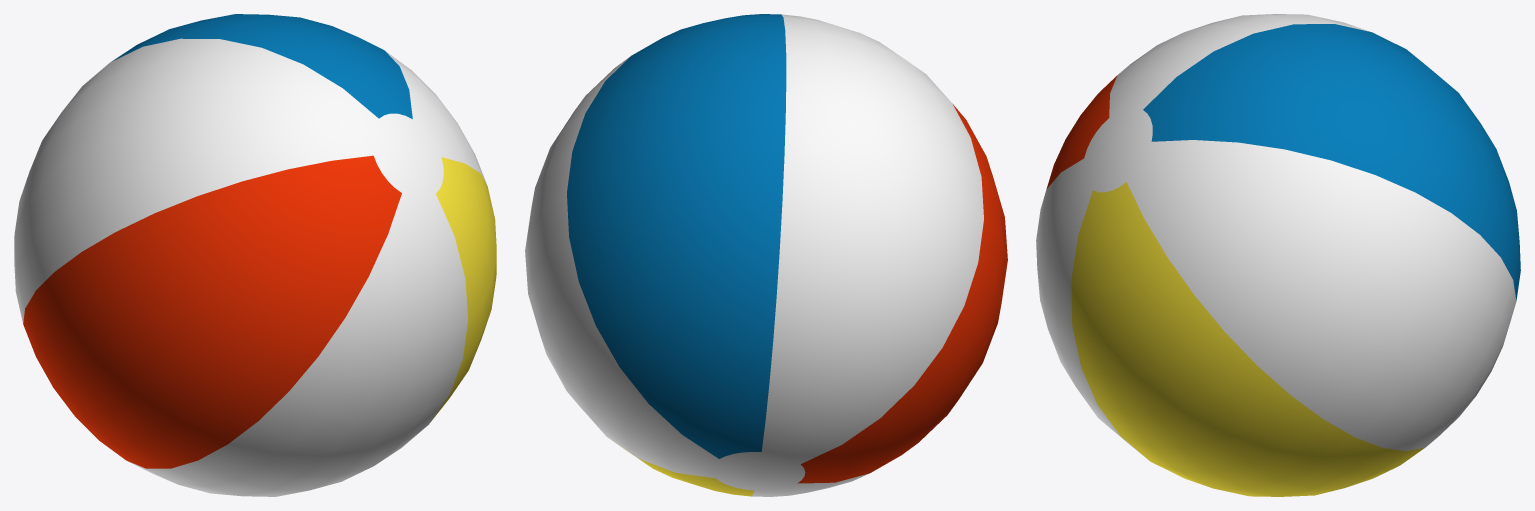
Rendered from beach ball.fbx.
3 views of the same model, side by side, from view 1: azimuth 30°, elevation 25°; view 2: azimuth 150°, elevation 25°; view 3: azimuth 270°, elevation 25° (orthographic).
Visible parts, largest first — view 1: beach ball; view 2: beach ball; view 3: beach ball.
Part boxes in pixels (left/top/right/bottom): beach ball: left=14, top=14, right=496, bottom=496; beach ball: left=525, top=14, right=1007, bottom=496; beach ball: left=1036, top=14, right=1520, bottom=496.
Bounding box in the file's own units: 8.59 × 8.57 × 8.61.
1 material, 1 textured.
